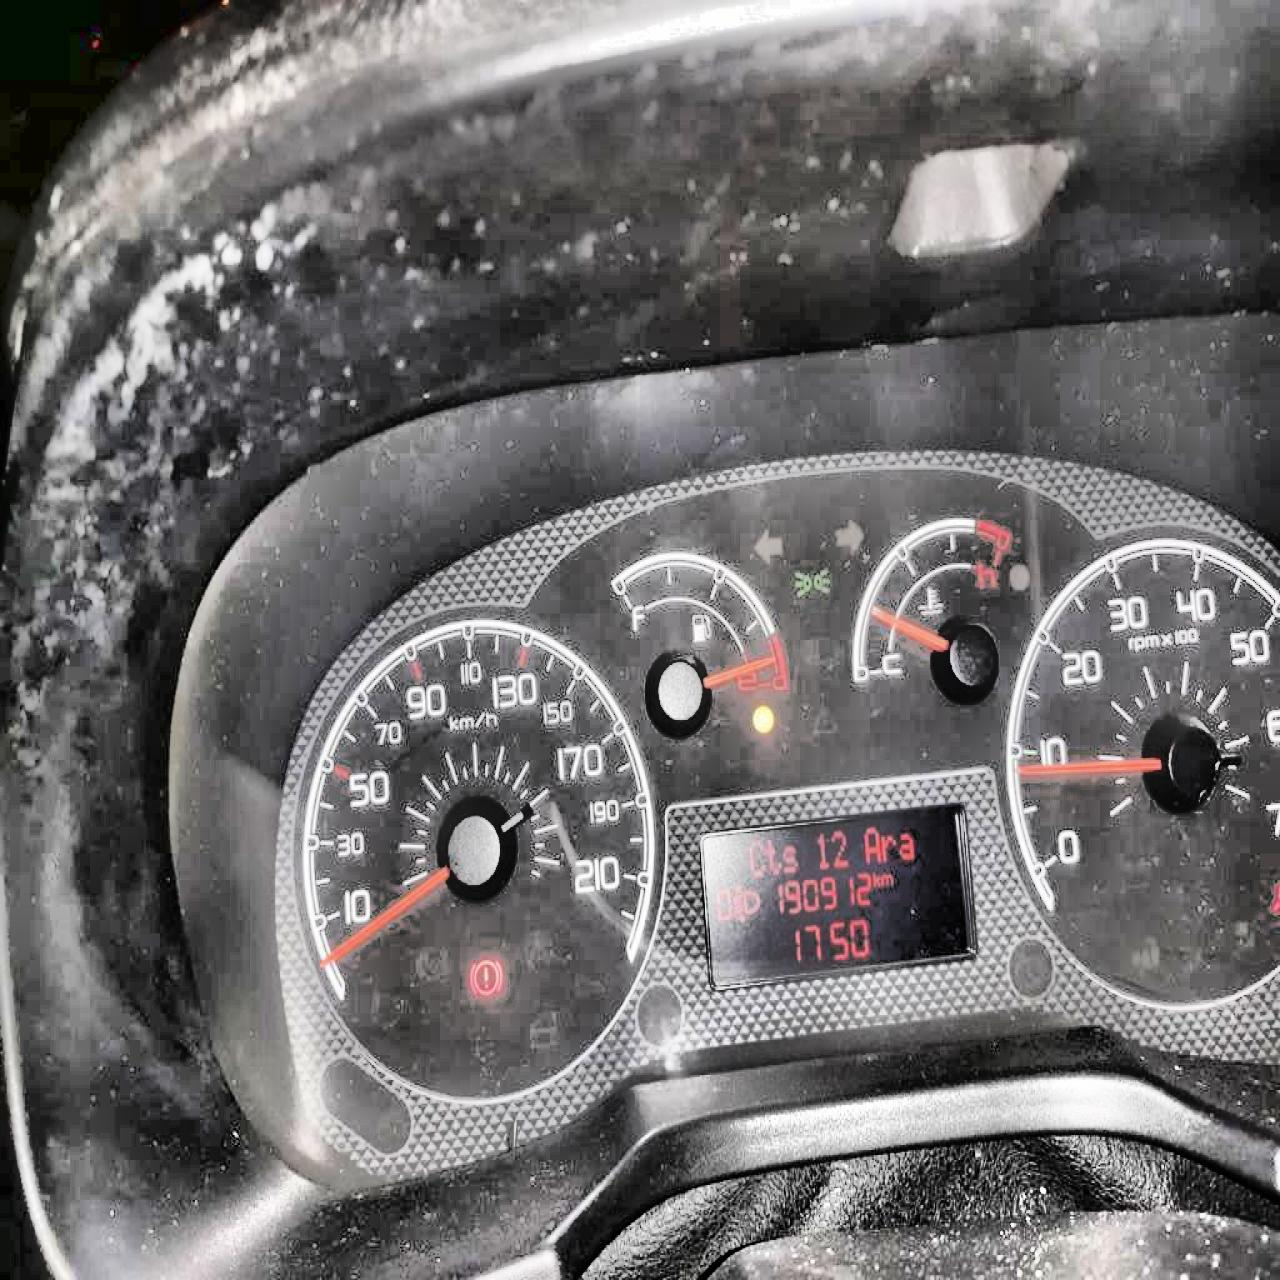0: (849, 914, 870, 959), (714, 886, 731, 921), (802, 877, 818, 913)
1: (813, 829, 829, 870), (791, 927, 803, 964), (775, 880, 784, 915), (846, 873, 855, 907)
2: (830, 826, 849, 870), (855, 870, 871, 905)
5: (826, 918, 847, 961)
7: (804, 920, 824, 961)
9: (818, 873, 836, 910), (784, 878, 799, 914)
X: (862, 823, 880, 865), (747, 837, 764, 878), (764, 837, 782, 876), (897, 830, 914, 862), (782, 843, 797, 874), (880, 831, 896, 862), (880, 870, 892, 885), (871, 869, 880, 887)
odometer: (694, 801, 980, 992)
